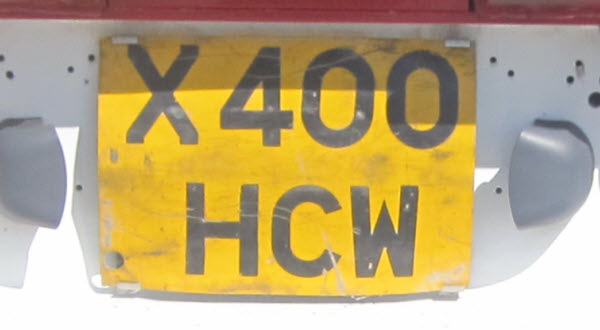license_plate: (97, 34, 477, 296)
